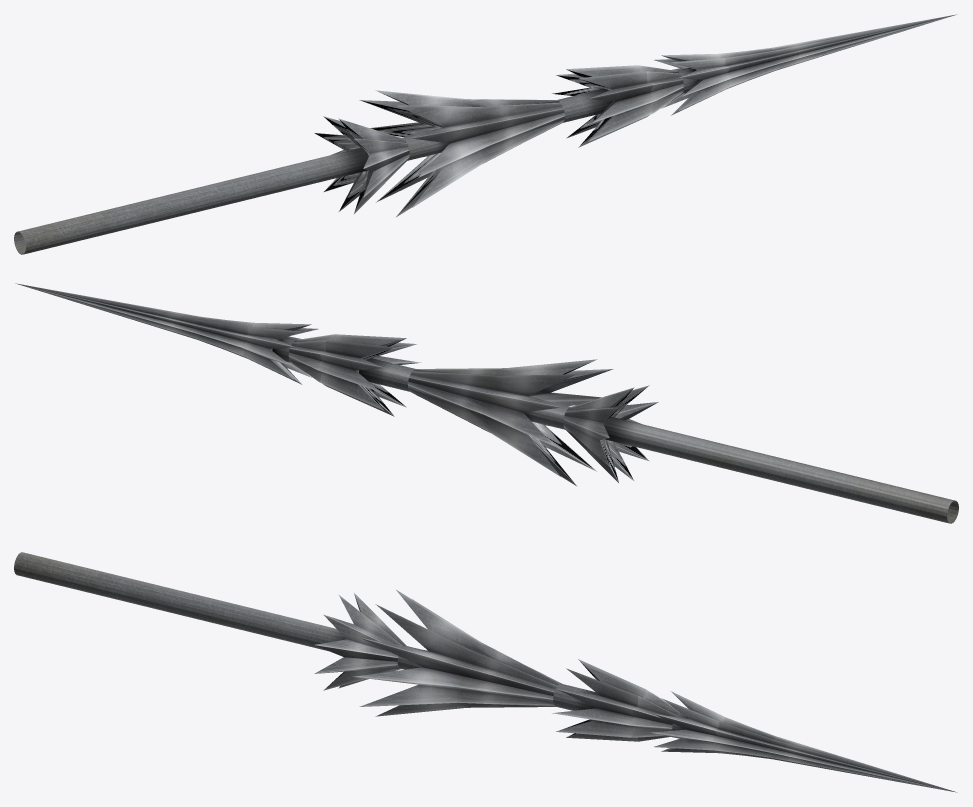
The model's file is dragonspear.fbx.
The picture shows the model from 3 angles, top to bottom: view 1: azimuth 30°, elevation 25°; view 2: azimuth 150°, elevation 25°; view 3: azimuth 330°, elevation 25°; orthographic projection.
Parts seen in each view (by area): view 1: dragonspear; view 2: dragonspear; view 3: dragonspear.
Part boxes in pixels (box(x1,y1,x2,y2)): dragonspear: box(14, 14, 957, 254); dragonspear: box(15, 283, 958, 523); dragonspear: box(14, 552, 957, 792).
Size of the model in its own units: 32.09 by 3.68 by 3.87.
